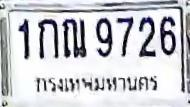1: (18, 18, 28, 59)
2: (137, 16, 156, 57)
6: (160, 15, 176, 56)
7: (115, 16, 133, 56)
9: (95, 17, 112, 56)
A01: (37, 18, 58, 58)
A19: (61, 18, 86, 58)
BKK: (32, 72, 162, 95)
